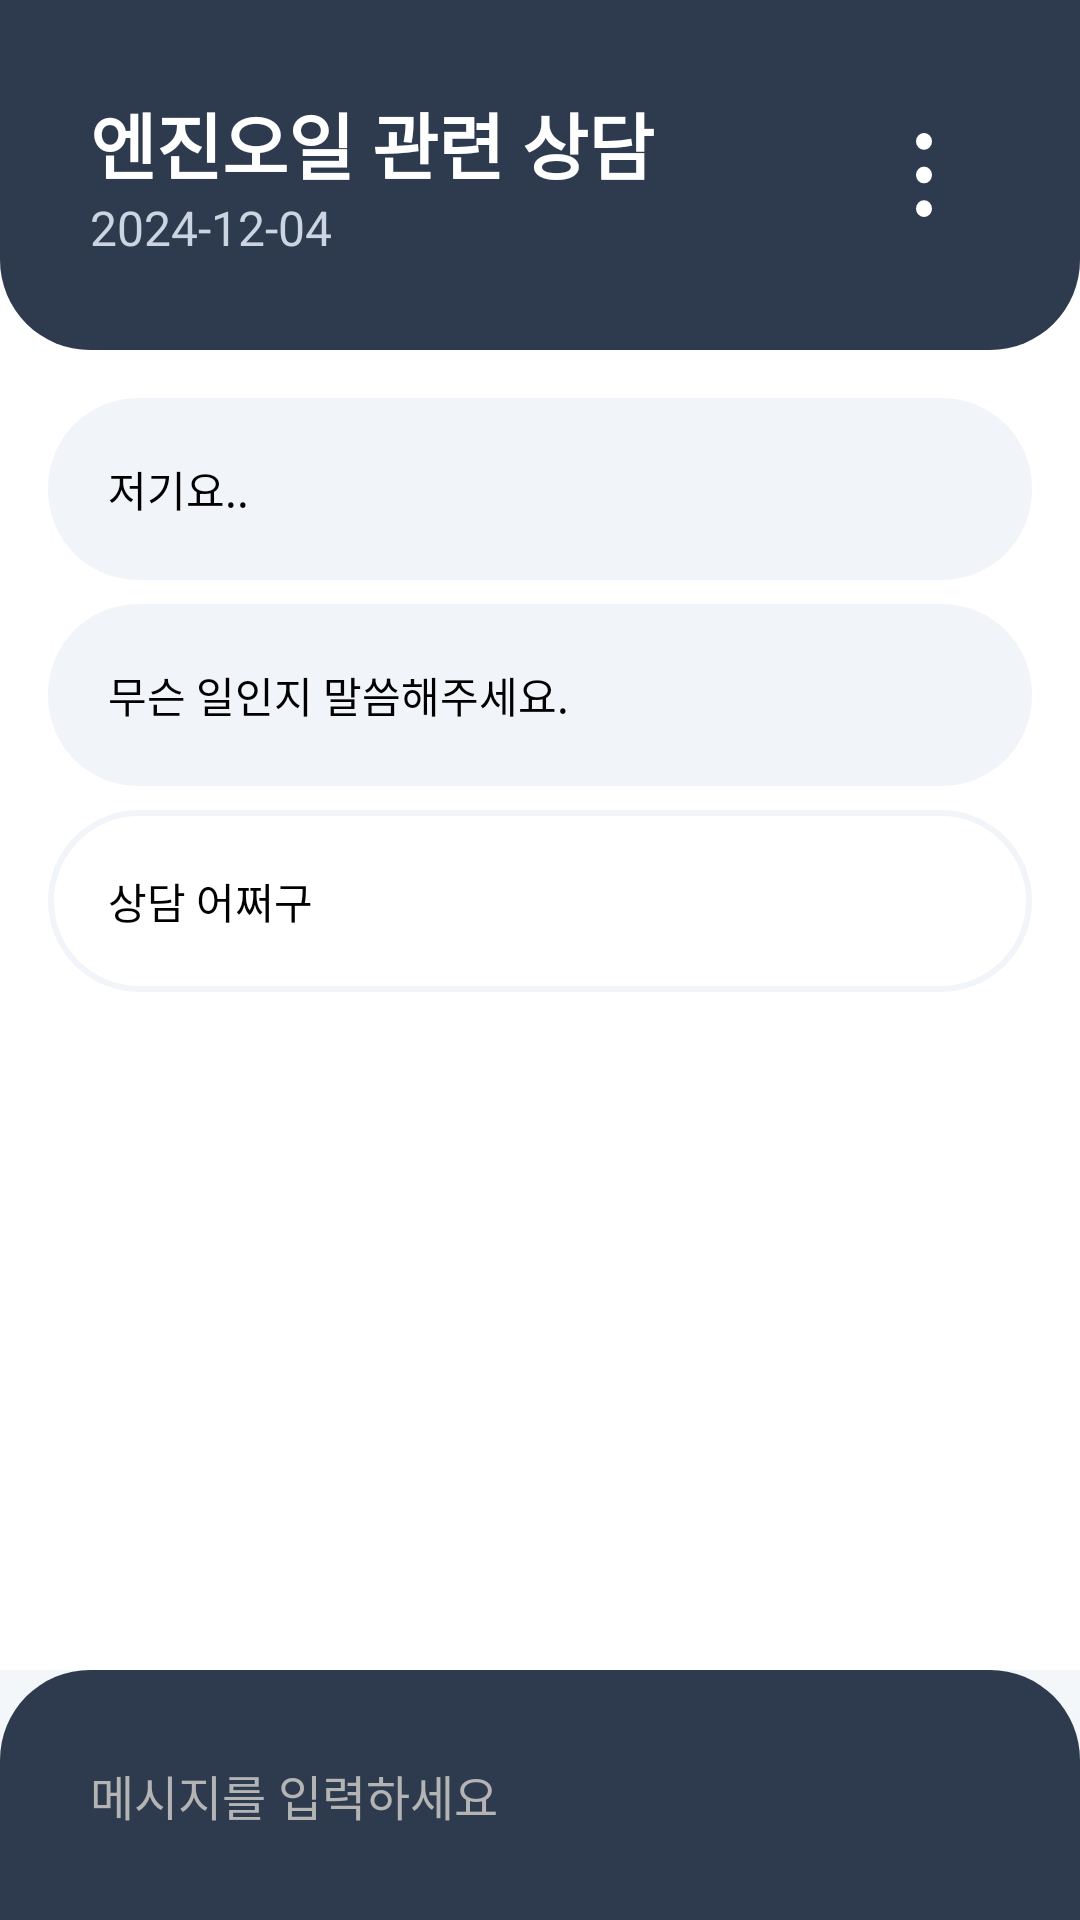

Icons on this 1080 × 1920 Android screen, each with the point to tap as (x=x, y=y):
Menu icon: (x=924, y=175)
